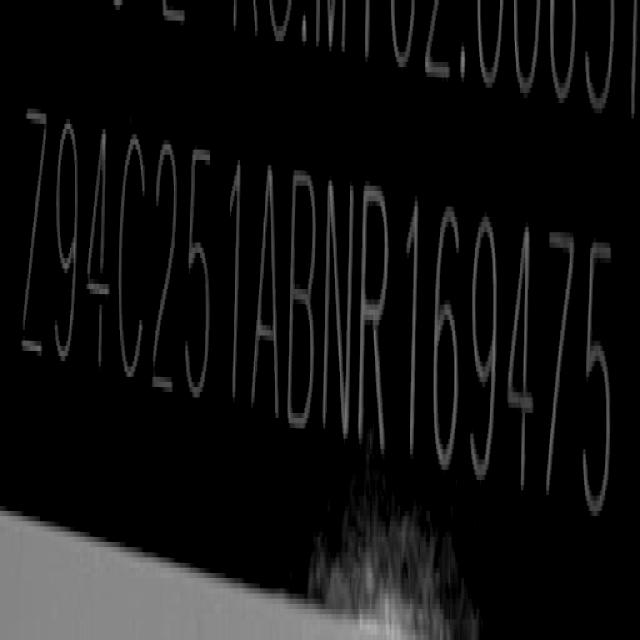1: (402, 187, 423, 461), (226, 150, 242, 418)
2: (152, 135, 180, 405)
4: (508, 209, 537, 502), (86, 119, 115, 384)
5: (584, 228, 618, 522), (184, 138, 214, 410)
6: (432, 194, 463, 484)
7: (545, 218, 580, 516)
9: (469, 204, 499, 492), (55, 107, 81, 376)
A: (254, 160, 283, 424)
B: (288, 161, 319, 437)
C: (116, 128, 146, 402)
N: (323, 166, 355, 450)
R: (358, 171, 392, 461)
Z: (20, 97, 48, 373)
